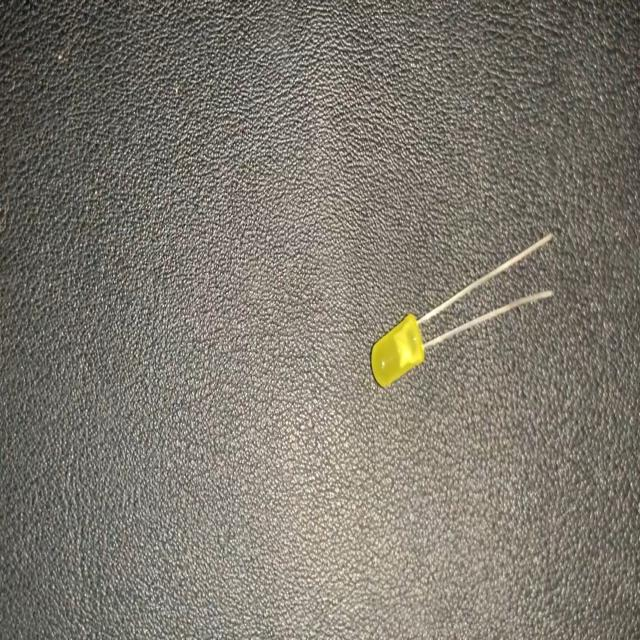LED: (369, 233, 555, 391)
